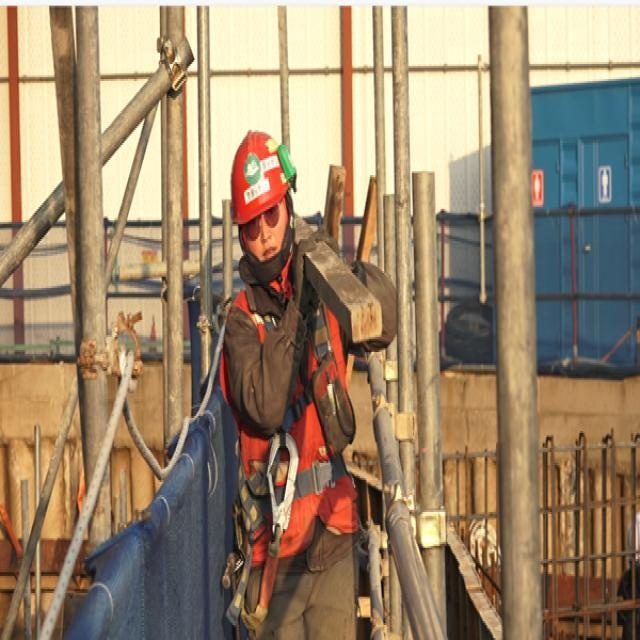Arnes_seguridad: (227, 264, 352, 627)
